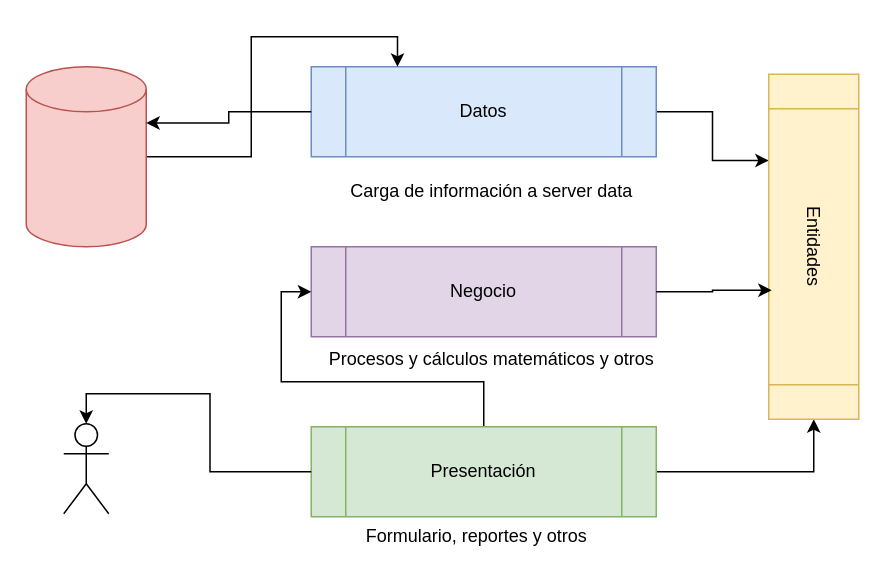
The diagram is 885 pixels wide and 585 high, and some of its shapes have lost their labels. The centre of each missing label's shape, as x and y in pixels:
"Microsoft SQL Server" goes at (85,156).
"Usuario" goes at (85,468).
